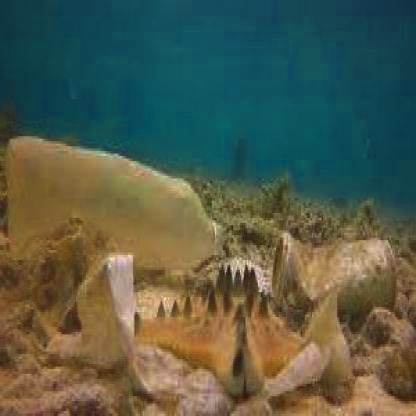can: (273, 218, 402, 319)
pbottle: (4, 122, 221, 278)
